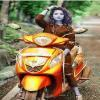motorcycles: (12, 33, 93, 100)
